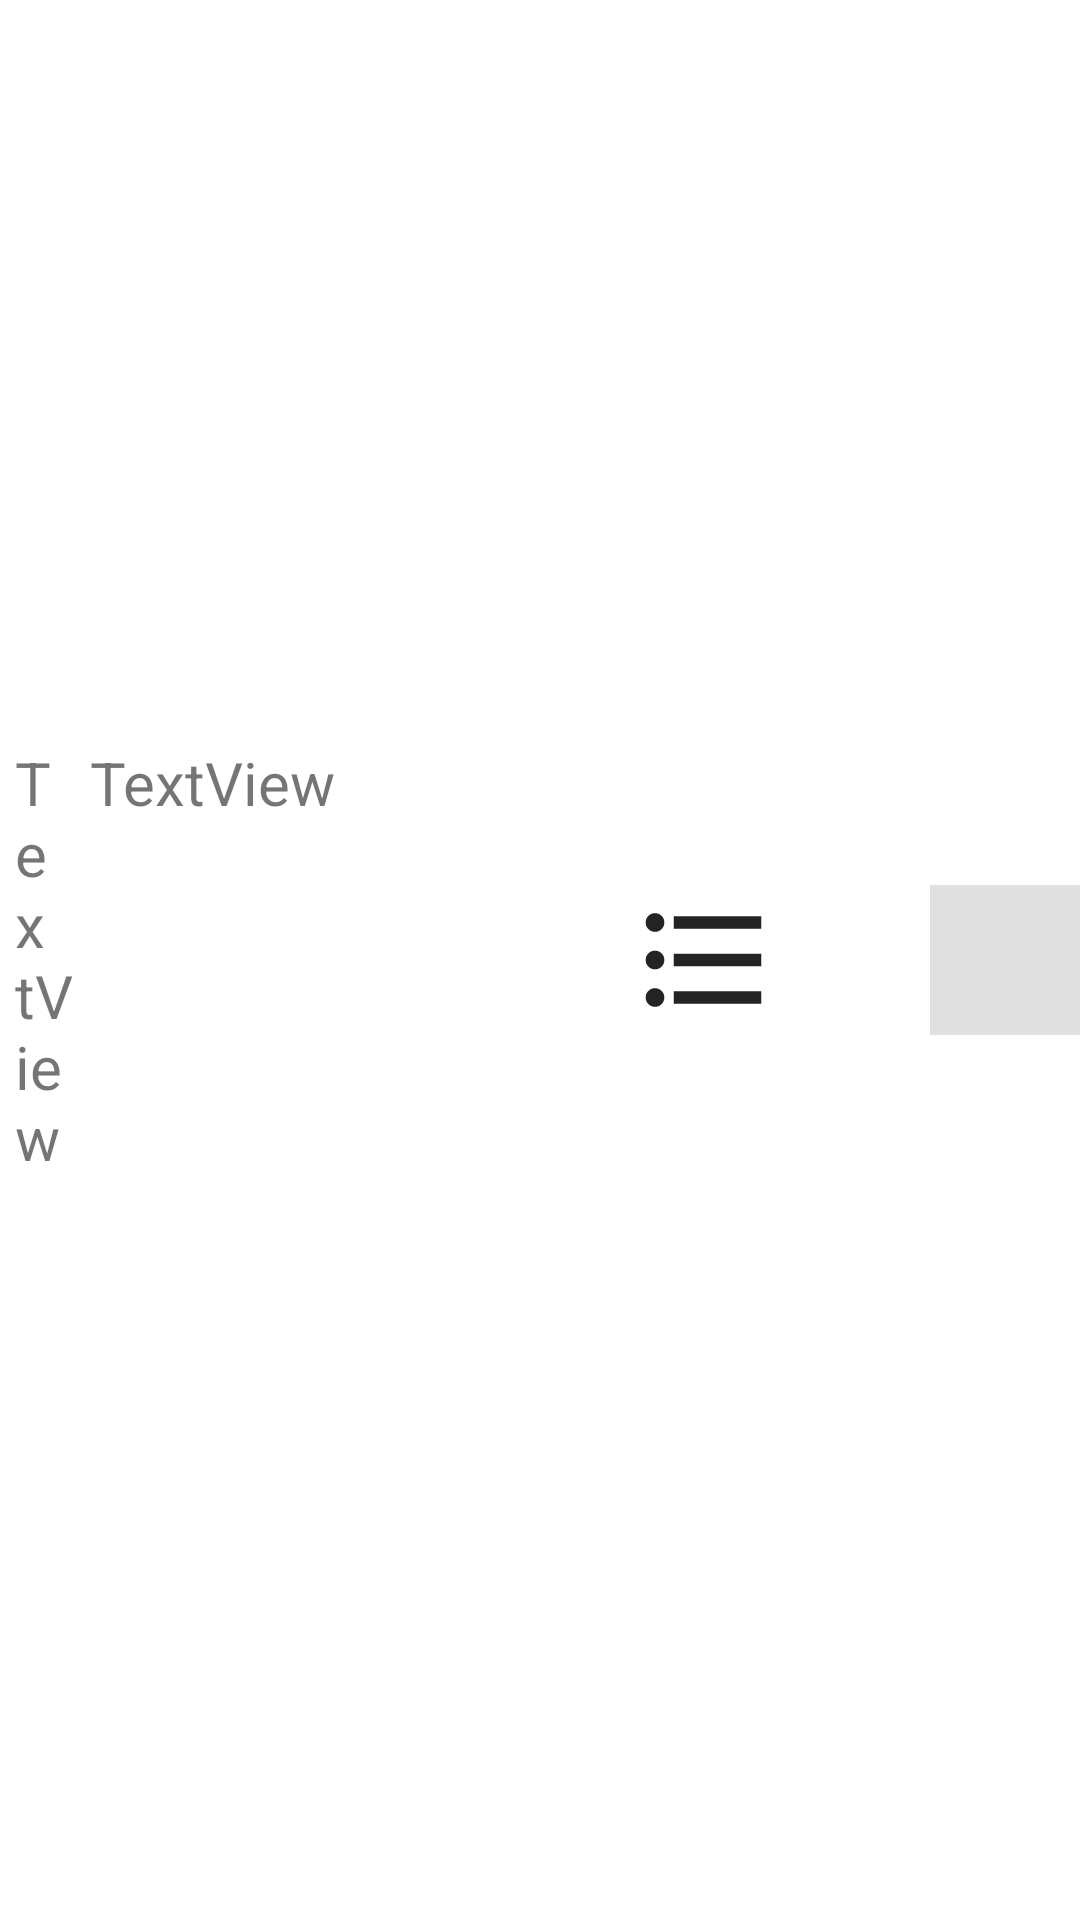

Icons on this 1080 x 1920 Android screen, each with its box as (x1, y1, x2, y2):
Details: (645, 913, 762, 1007)
